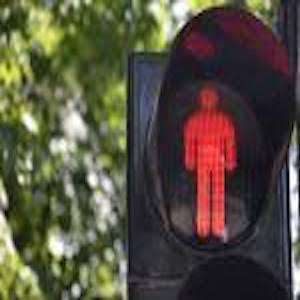red: (171, 76, 259, 239)
